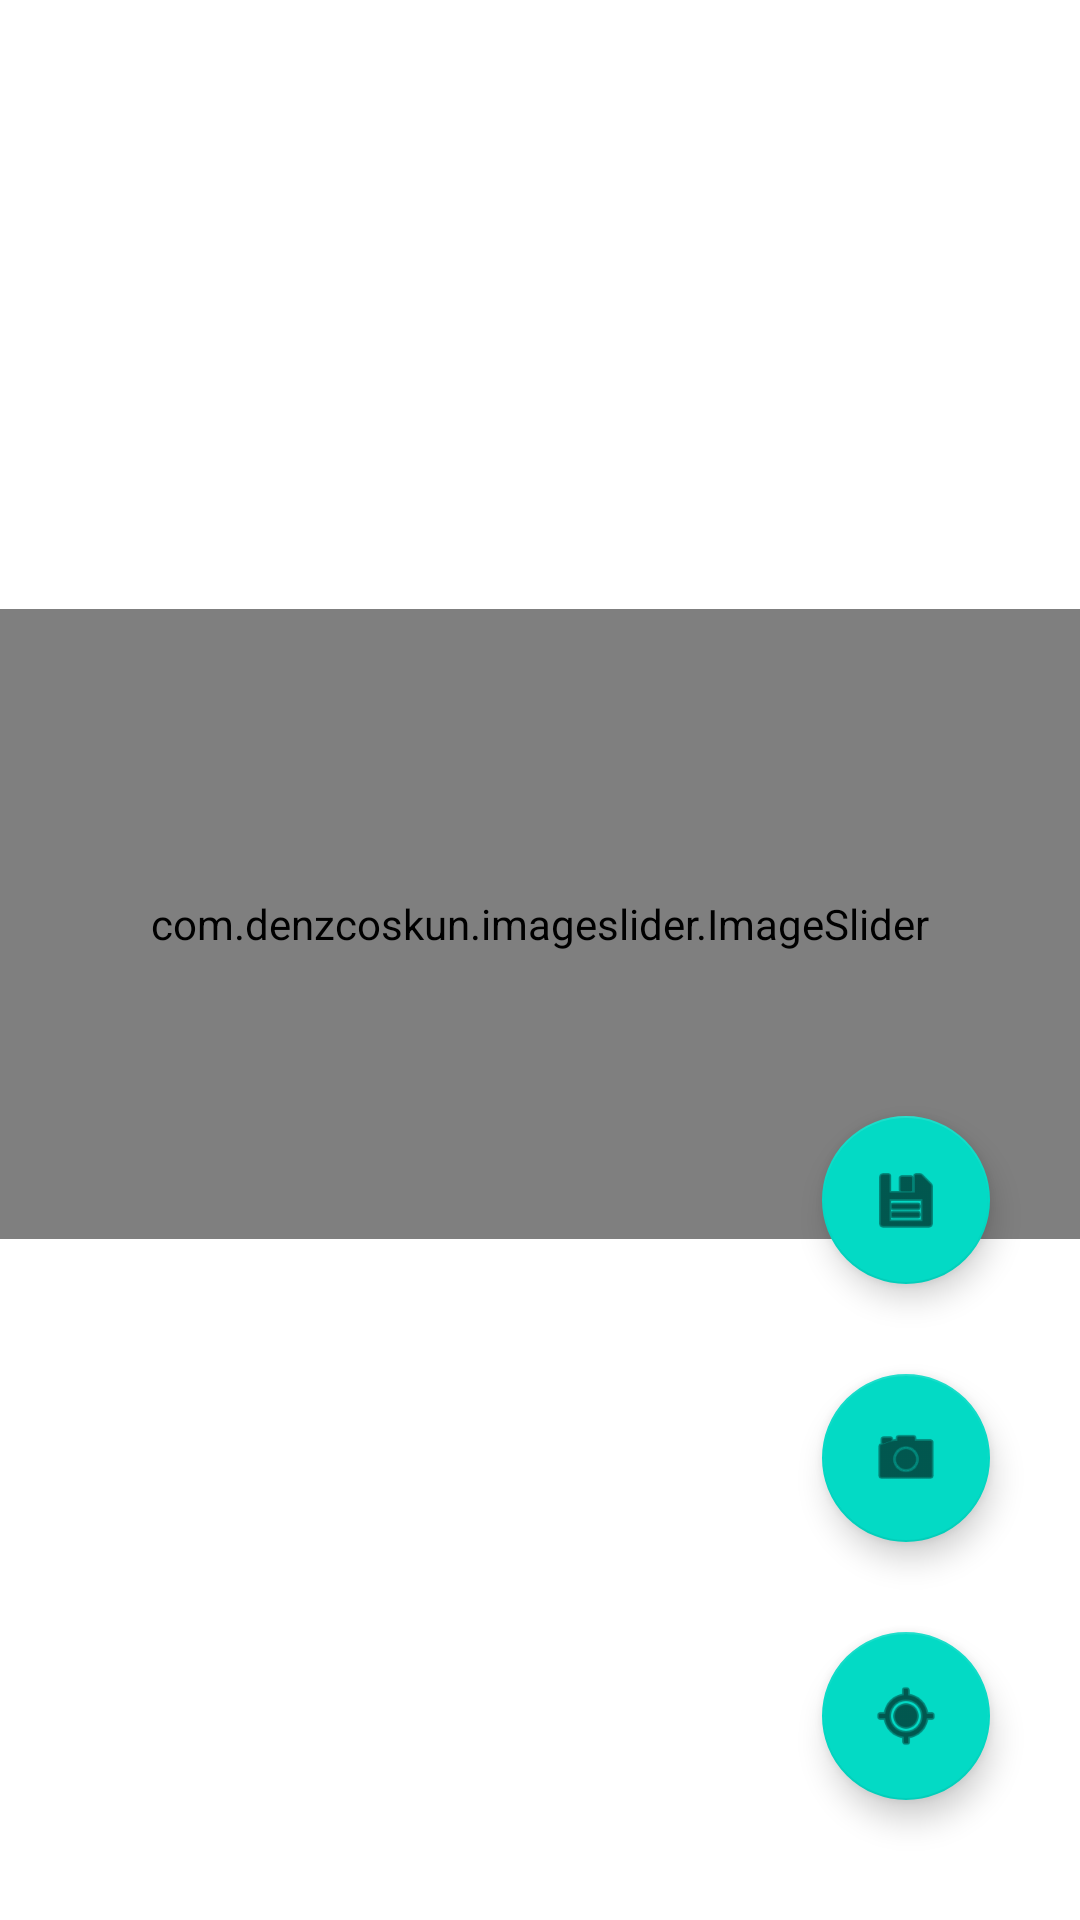

Locate icon controls on the screen. Image size 1080×1920, boxes as (x1, y1, x2, y2).
Get Location Button: (822, 1632, 990, 1800)
Save to DB Button: (822, 1116, 990, 1284)
Take Photo Button: (822, 1374, 990, 1542)
